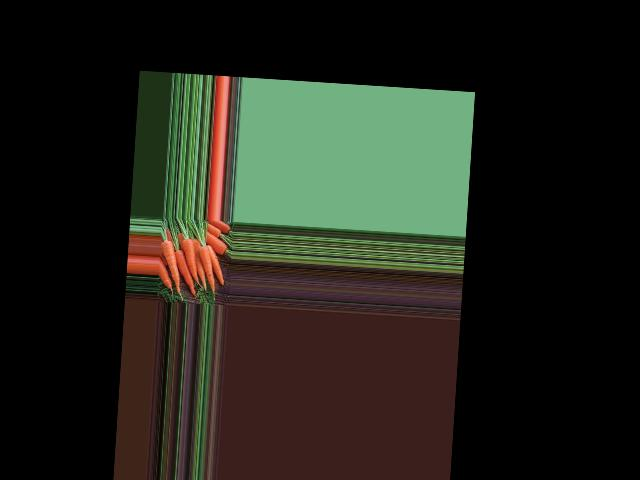carrot: (157, 235, 180, 298)
